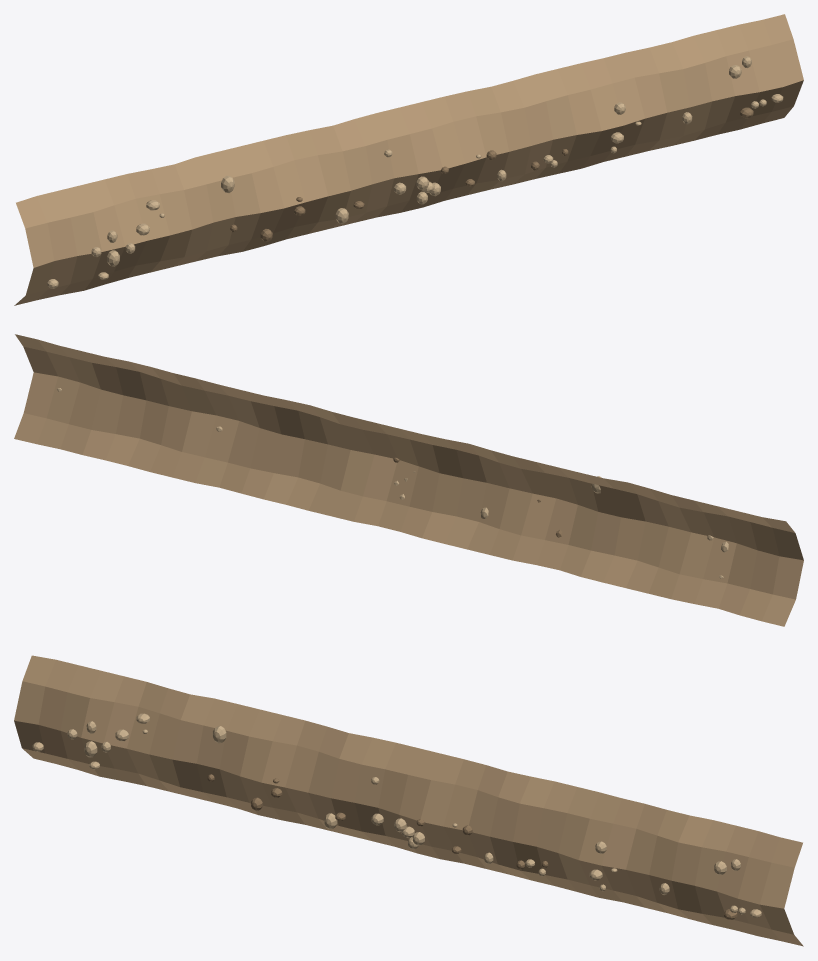
Rendered from potato_ridge_340cm.glb.
The picture shows the model from 3 angles, top to bottom: view 1: azimuth 30°, elevation 25°; view 2: azimuth 150°, elevation 25°; view 3: azimuth 330°, elevation 25°; orthographic projection.
Visible parts, largest first — view 1: irregular_visual_potato_ridge; view 2: irregular_visual_potato_ridge; view 3: irregular_visual_potato_ridge.
Boxes of the visible parts, x1,y1,x2,y2 form: irregular_visual_potato_ridge: (14,14,803,305); irregular_visual_potato_ridge: (14,334,803,626); irregular_visual_potato_ridge: (14,655,803,946).
Bounding box in the file's own units: 3.4 × 0.44 × 0.1875.
